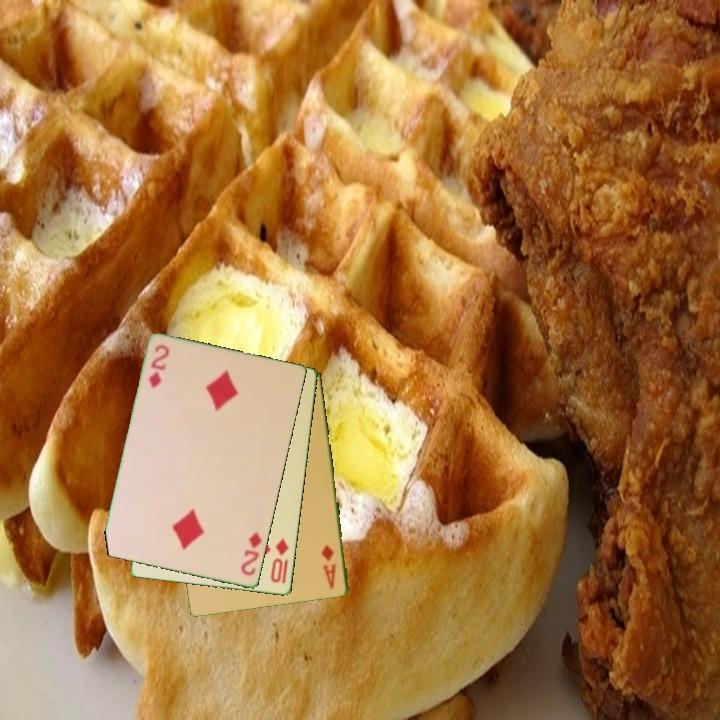10d: (267, 535, 292, 586)
2d: (237, 529, 265, 579), (145, 341, 172, 391)
Ad: (318, 542, 341, 592)
